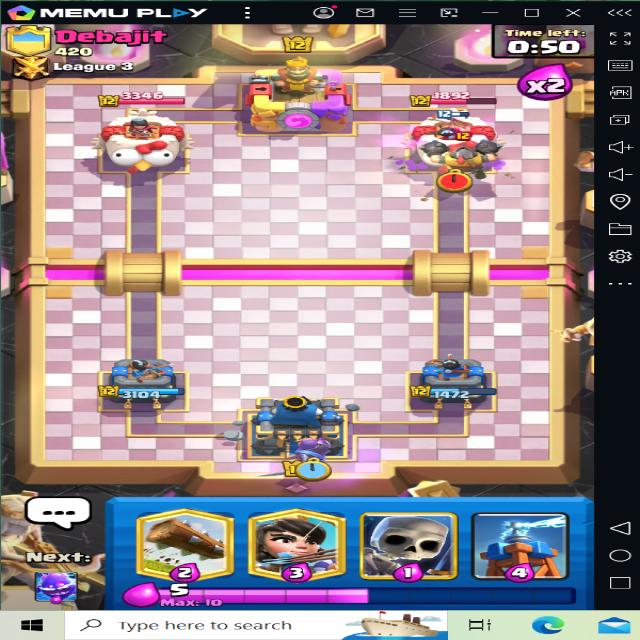mega-knight: (418, 131, 503, 189)
